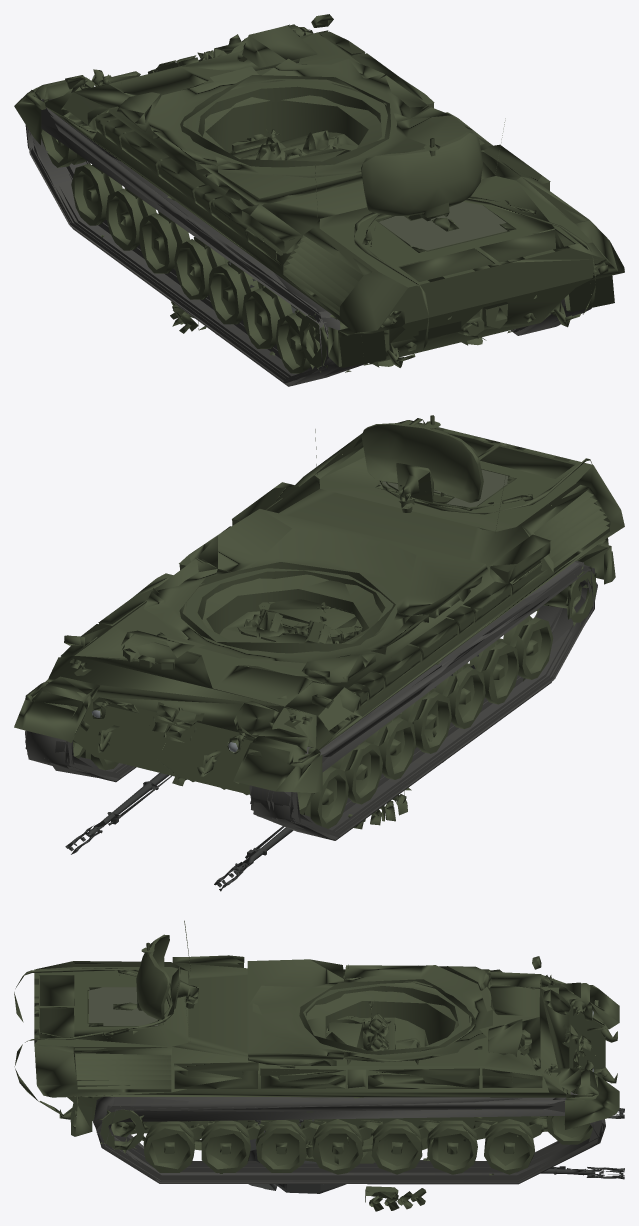
The model's file is gepard_lo.glb.
3 views of the same model, one above another, from view 1: azimuth 30°, elevation 25°; view 2: azimuth 150°, elevation 25°; view 3: azimuth 270°, elevation 25° (orthographic). The views are drawn at different scales.
Visible parts, largest first — view 1: body|flakpz_i_gepard_body_c, body|ger_flakpz_i_gepard_track_c_left, body|flakpz_i_gepard_turret_c, radar|flakpz_i_gepard_turret_c, body|net_f_c, turret|flakpz_i_gepard_turret_c, body|ger_flakpz_i_gepard_track_c_right; view 2: body|flakpz_i_gepard_body_c, body|ger_flakpz_i_gepard_track_c_left, body|flakpz_i_gepard_turret_c, radar|flakpz_i_gepard_turret_c, turret|flakpz_i_gepard_turret_c, body|ger_flakpz_i_gepard_track_c_right, cradle|flakpz_i_gepard_gun_c, body|net_f_c, cradle|flakpz_i_gepard_turret_c; view 3: body|flakpz_i_gepard_body_c, body|ger_flakpz_i_gepard_track_c_right, body|flakpz_i_gepard_turret_c, turret|flakpz_i_gepard_turret_c, radar|flakpz_i_gepard_turret_c, body|net_f_c, cradle|flakpz_i_gepard_gun_c, cradle|flakpz_i_gepard_turret_c.
Boxes of the visible parts, box(x1,y1,x2,y2) form: body|flakpz_i_gepard_body_c: box(14, 14, 624, 373); body|ger_flakpz_i_gepard_track_c_left: box(25, 99, 366, 386); body|flakpz_i_gepard_turret_c: box(180, 75, 390, 167); radar|flakpz_i_gepard_turret_c: box(361, 132, 482, 221); body|net_f_c: box(379, 199, 507, 250); turret|flakpz_i_gepard_turret_c: box(198, 118, 505, 296); body|ger_flakpz_i_gepard_track_c_right: box(510, 298, 591, 335); body|flakpz_i_gepard_body_c: box(14, 418, 624, 828); body|ger_flakpz_i_gepard_track_c_left: box(249, 560, 597, 840); body|flakpz_i_gepard_turret_c: box(179, 562, 395, 653); radar|flakpz_i_gepard_turret_c: box(361, 415, 483, 512); turret|flakpz_i_gepard_turret_c: box(219, 429, 505, 741); body|ger_flakpz_i_gepard_track_c_right: box(25, 710, 136, 782); cradle|flakpz_i_gepard_gun_c: box(65, 686, 442, 891); body|net_f_c: box(379, 469, 508, 507); cradle|flakpz_i_gepard_turret_c: box(172, 776, 411, 829); body|flakpz_i_gepard_body_c: box(14, 955, 619, 1174); body|ger_flakpz_i_gepard_track_c_right: box(93, 1092, 605, 1184); body|flakpz_i_gepard_turret_c: box(299, 979, 476, 1054); turret|flakpz_i_gepard_turret_c: box(184, 920, 428, 1164); radar|flakpz_i_gepard_turret_c: box(136, 934, 198, 1019); body|net_f_c: box(89, 987, 158, 1025); cradle|flakpz_i_gepard_gun_c: box(248, 1108, 624, 1193); cradle|flakpz_i_gepard_turret_c: box(365, 1186, 426, 1211).
Size of the model in its own units: 3.26 by 2.99 by 7.36.
